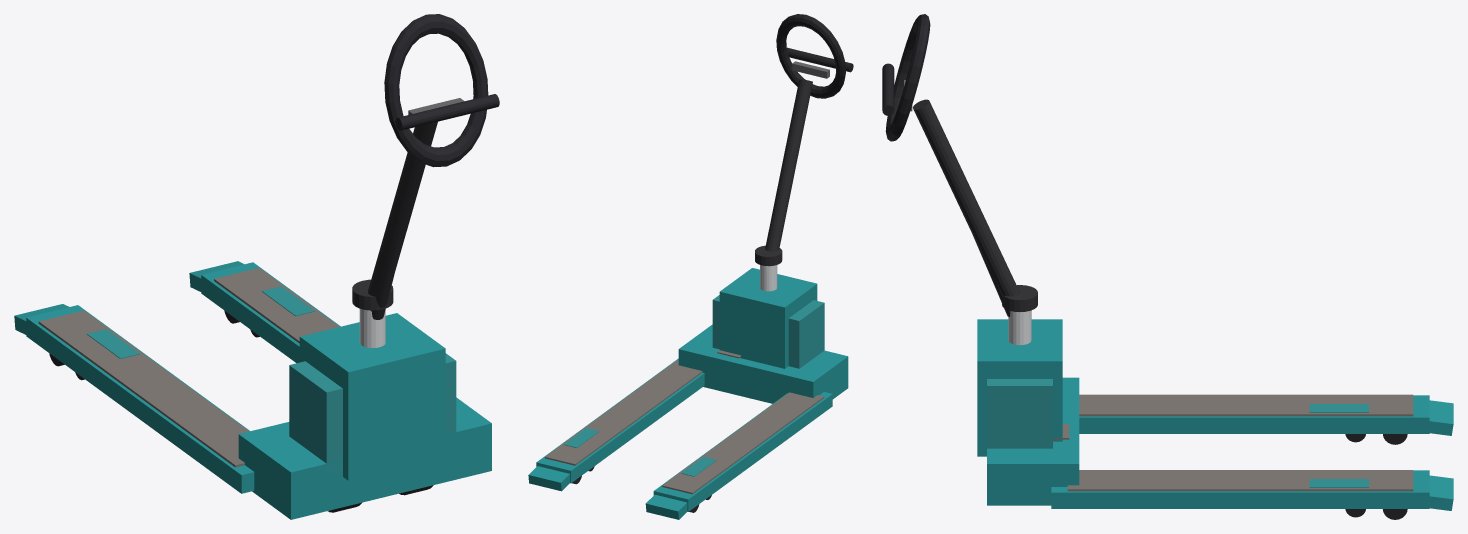
The model's file is pallet_jack.glb.
3 views of the same model, side by side, from view 1: azimuth 30°, elevation 25°; view 2: azimuth 150°, elevation 25°; view 3: azimuth 270°, elevation 25° (orthographic). The views are drawn at different scales.
Parts seen in each view (by area): view 1: PumpBody, Chassis, ForkTopWorn, Fork, HandleLoop, PumpSide, ForkTopWorn.001, TillerArm, Fork.001, HandleCross, PumpSide2, PistonChrome (+4 smaller); view 2: PumpBody, Chassis, ForkTopWorn, ForkTopWorn.001, Fork, Fork.001, TillerArm, HandleLoop, PumpSide, ForkTip, ForkTip.001, HandleCross (+4 smaller); view 3: Fork.001, ForkTopWorn, ForkTopWorn.001, Fork, Chassis, PumpBody, PumpSide2, TillerArm, HandleLoop, ForkTip, ForkTip.001, PistonChrome (+2 smaller).
Part boxes in pixels (x1=…): PumpBody: x1=299, y1=313, x2=445, y2=480; Chassis: x1=238, y1=397, x2=491, y2=519; ForkTopWorn: x1=38, y1=310, x2=249, y2=467; Fork: x1=26, y1=305, x2=254, y2=493; HandleLoop: x1=384, y1=14, x2=488, y2=167; PumpSide: x1=289, y1=361, x2=342, y2=473; ForkTopWorn.001: x1=214, y1=267, x2=339, y2=343; TillerArm: x1=368, y1=121, x2=437, y2=311; Fork.001: x1=201, y1=262, x2=340, y2=363; HandleCross: x1=395, y1=94, x2=499, y2=130; PumpSide2: x1=445, y1=353, x2=456, y2=442; PistonChrome: x1=359, y1=308, x2=385, y2=347; PumpBody: x1=719, y1=268, x2=817, y2=368; Chassis: x1=678, y1=324, x2=848, y2=403; ForkTopWorn: x1=662, y1=392, x2=824, y2=494; ForkTopWorn.001: x1=545, y1=360, x2=702, y2=465; Fork: x1=653, y1=392, x2=832, y2=511; Fork.001: x1=536, y1=358, x2=704, y2=483; TillerArm: x1=765, y1=79, x2=812, y2=251; HandleLoop: x1=776, y1=14, x2=845, y2=98; PumpSide: x1=788, y1=300, x2=824, y2=368; ForkTip: x1=645, y1=494, x2=687, y2=519; ForkTip.001: x1=528, y1=466, x2=569, y2=491; HandleCross: x1=787, y1=47, x2=853, y2=72; Fork.001: x1=1051, y1=470, x2=1429, y2=508; ForkTopWorn: x1=1079, y1=394, x2=1413, y2=416; ForkTopWorn.001: x1=1067, y1=470, x2=1413, y2=491; Fork: x1=1079, y1=395, x2=1429, y2=433; Chassis: x1=987, y1=377, x2=1079, y2=505; PumpBody: x1=977, y1=319, x2=1062, y2=456; PumpSide2: x1=987, y1=379, x2=1052, y2=448; TillerArm: x1=913, y1=99, x2=1019, y2=296; HandleLoop: x1=885, y1=14, x2=930, y2=141; ForkTip: x1=1429, y1=400, x2=1453, y2=435; ForkTip.001: x1=1429, y1=475, x2=1453, y2=510; PistonChrome: x1=1008, y1=310, x2=1031, y2=345.
Bounding box in the file's own units: 0.7 × 1.54 × 1.74.
